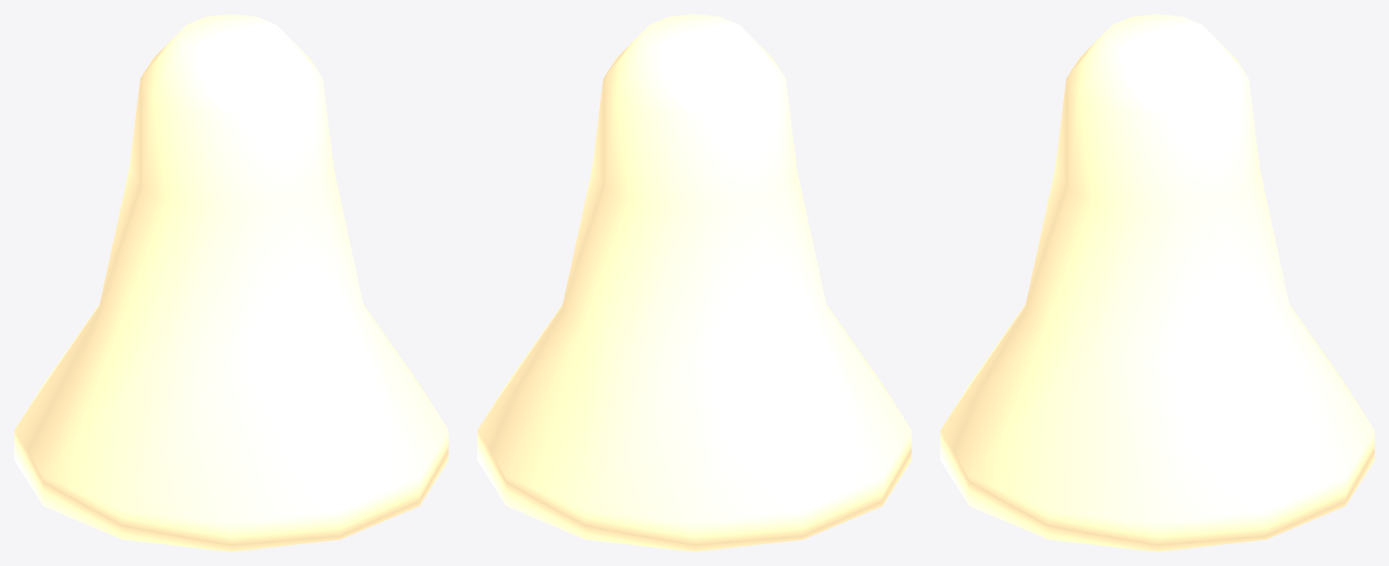
The model's file is fragment-bells.glb.
The picture shows the model from 3 angles, left to right: view 1: azimuth 30°, elevation 25°; view 2: azimuth 150°, elevation 25°; view 3: azimuth 270°, elevation 25°; orthographic projection.
Parts seen in each view (by area): view 1: default; view 2: default; view 3: default.
Part boxes in pixels (box(x1,y1,x2,y2)): default: box(14, 14, 448, 551); default: box(477, 14, 911, 551); default: box(940, 14, 1374, 551).
Size of the model in its own units: 0.1671 by 0.18 by 0.1671.
